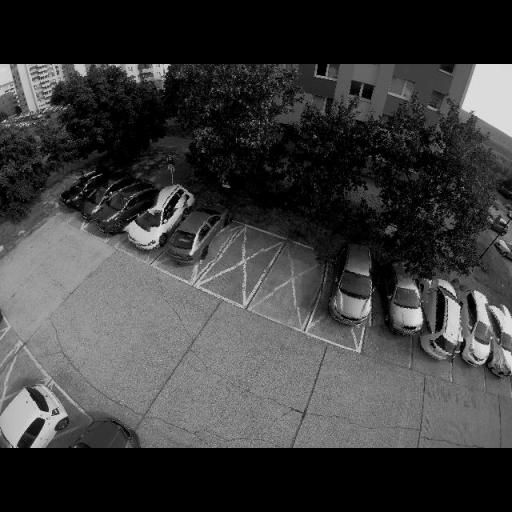busy: (316, 239, 386, 331), (128, 186, 194, 254), (3, 382, 72, 447), (374, 260, 428, 343), (168, 203, 234, 266), (418, 280, 467, 362), (94, 174, 159, 234), (463, 290, 502, 369), (60, 165, 108, 214), (489, 299, 512, 375)
free: (273, 258, 317, 308), (228, 241, 266, 282), (5, 357, 37, 389)
